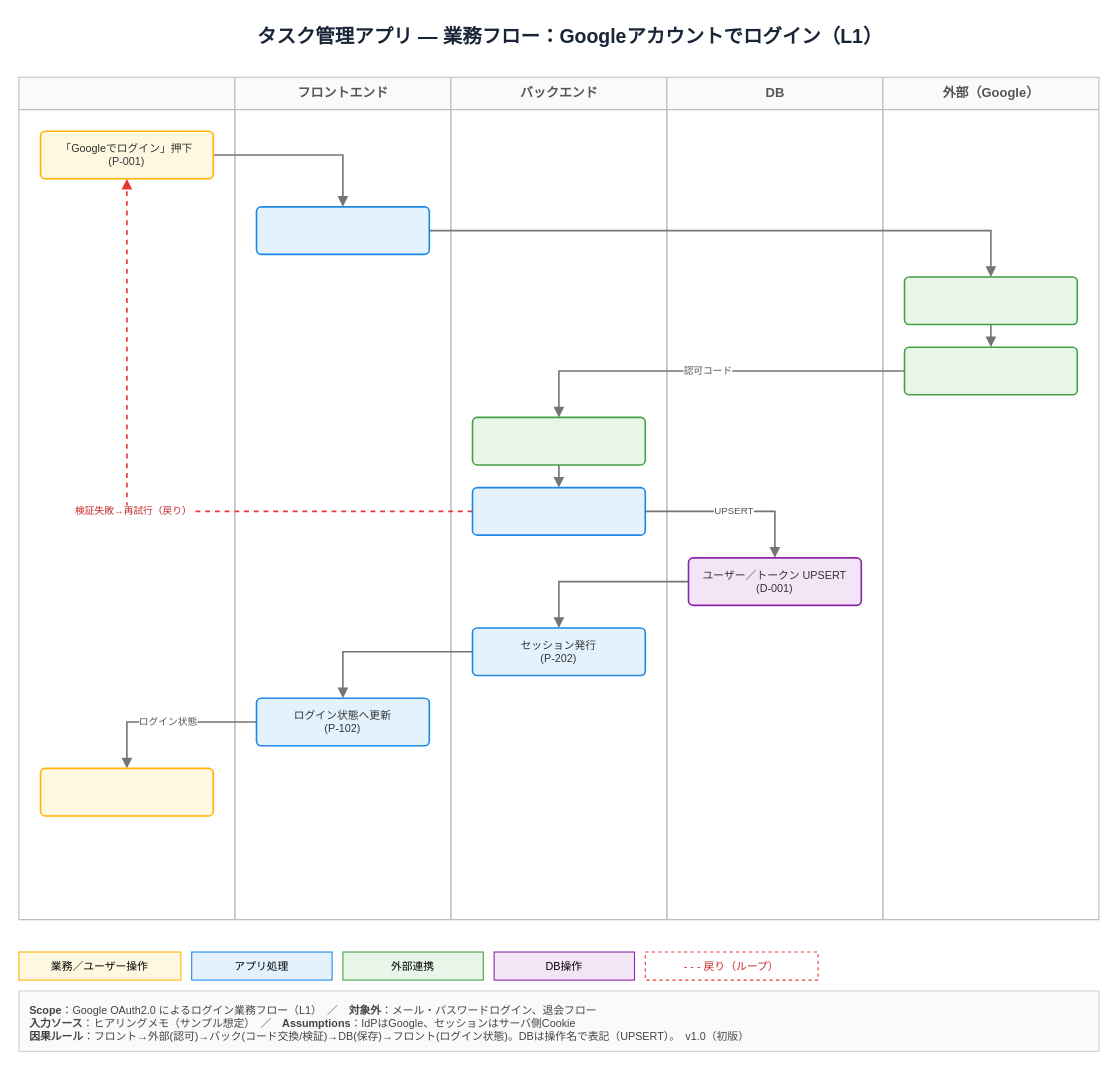
Some shapes in this 1118 by 1070 pixel diagram are drawn without their labels. The box of each missing label's shape, as (x1, y1, x2, y2) in pixels:
Google 同意画面・認可 (X-001): (903, 276, 1078, 325)
IDトークン検証 (P-201): (471, 486, 646, 535)
ダッシュボード表示 (P-002): (39, 767, 214, 816)
ユーザー: (18, 76, 235, 920)
認可コード→トークン交換 (X-003): (471, 416, 646, 465)
認可コード発行 (X-002): (903, 346, 1078, 395)
認可リクエスト送信 (P-101): (255, 206, 430, 255)
